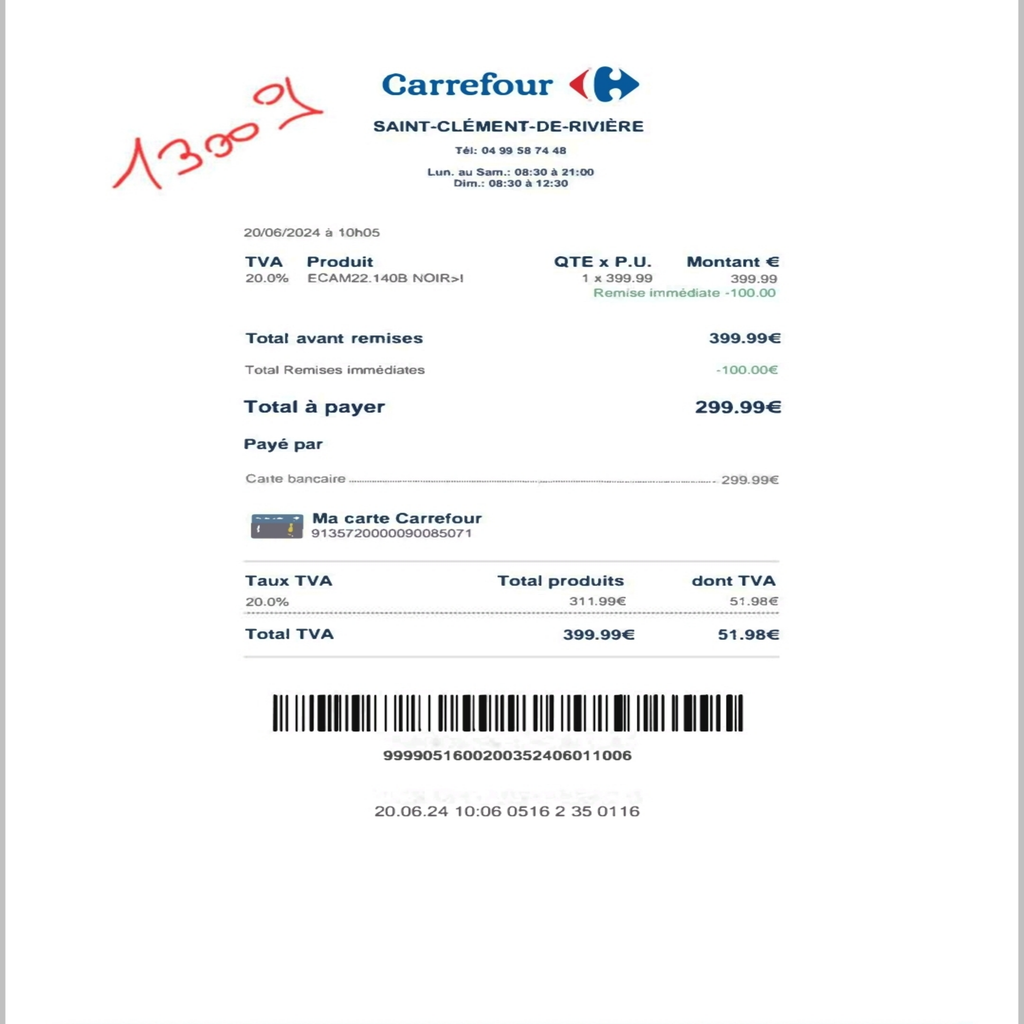recipt: (8, 0, 1016, 1016)
